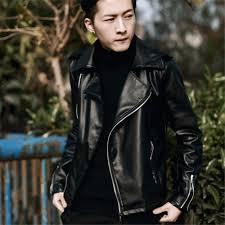jacket: (50, 39, 203, 208)
